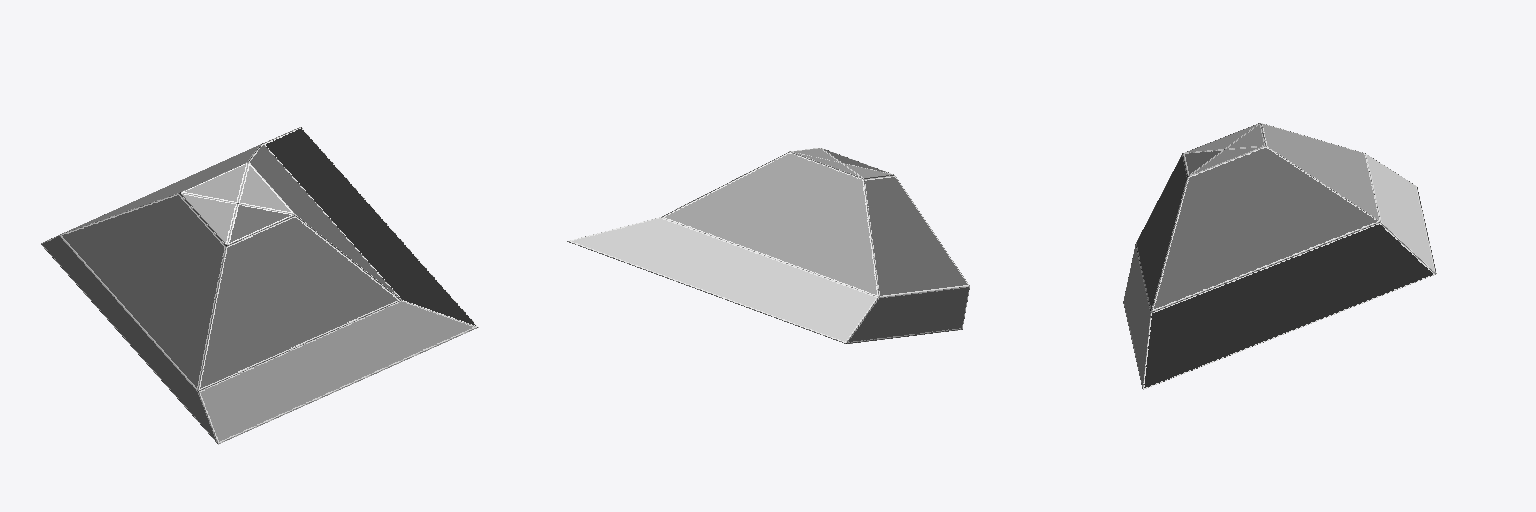
The picture shows the model from 3 angles: view 1: azimuth 30°, elevation 25°; view 2: azimuth 150°, elevation 25°; view 3: azimuth 270°, elevation 25°; orthographic projection.
Visible parts, largest first — view 1: Plane; view 2: Plane; view 3: Plane.
Part boxes in pixels (x1,y1,x2,y2): Plane: (41, 127, 478, 444); Plane: (567, 148, 969, 343); Plane: (1123, 123, 1436, 389).
Size of the model in its own units: 0.225 by 0.1436 by 0.1982.
Materials: 1 (1 with a texture image).